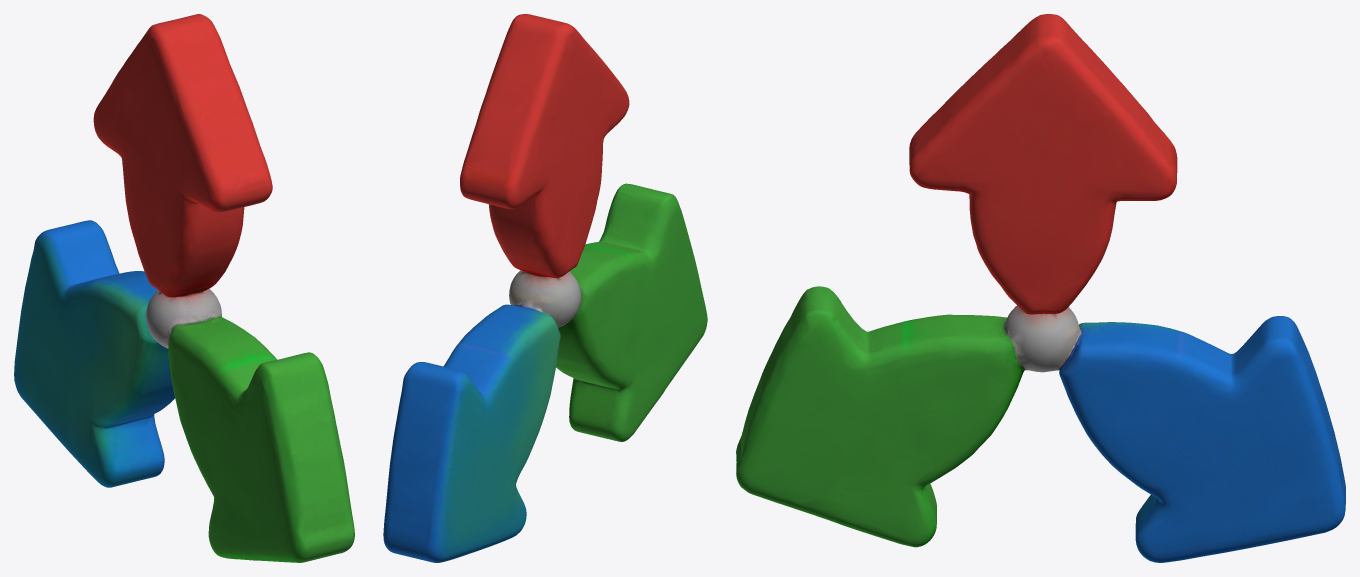
File: ic-transform.glb
3 renders of one model, left to right at view 1: azimuth 30°, elevation 25°; view 2: azimuth 150°, elevation 25°; view 3: azimuth 270°, elevation 25°, orthographic. The views are drawn at different scales.
Parts seen in each view (by area): view 1: tripo_node_d1ef5336-82da-4166-9cdb-4dc3f502d45d; view 2: tripo_node_d1ef5336-82da-4166-9cdb-4dc3f502d45d; view 3: tripo_node_d1ef5336-82da-4166-9cdb-4dc3f502d45d.
Part boxes in pixels (left/top/right/bottom): tripo_node_d1ef5336-82da-4166-9cdb-4dc3f502d45d: left=14, top=14, right=354, bottom=562; tripo_node_d1ef5336-82da-4166-9cdb-4dc3f502d45d: left=383, top=14, right=707, bottom=562; tripo_node_d1ef5336-82da-4166-9cdb-4dc3f502d45d: left=736, top=14, right=1345, bottom=562.
Bounding box in the file's own units: 0.021 × 0.15 × 0.1577.
1 material, 1 textured.
